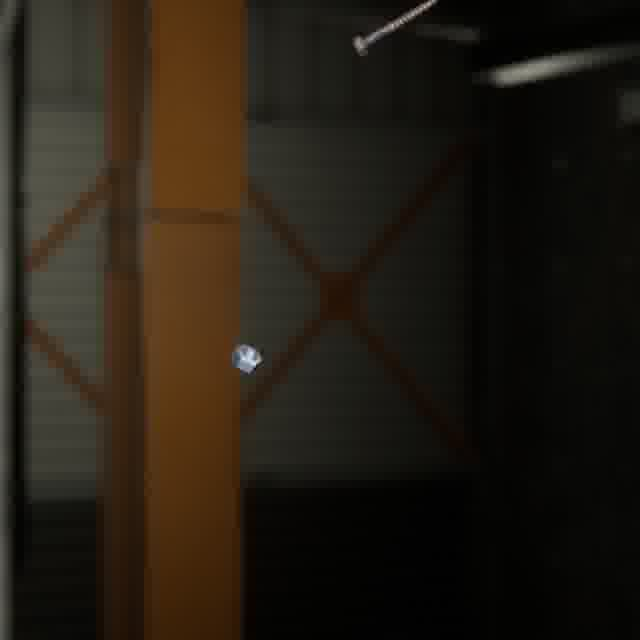bolt: (347, 0, 442, 61)
nut: (225, 339, 267, 377)
